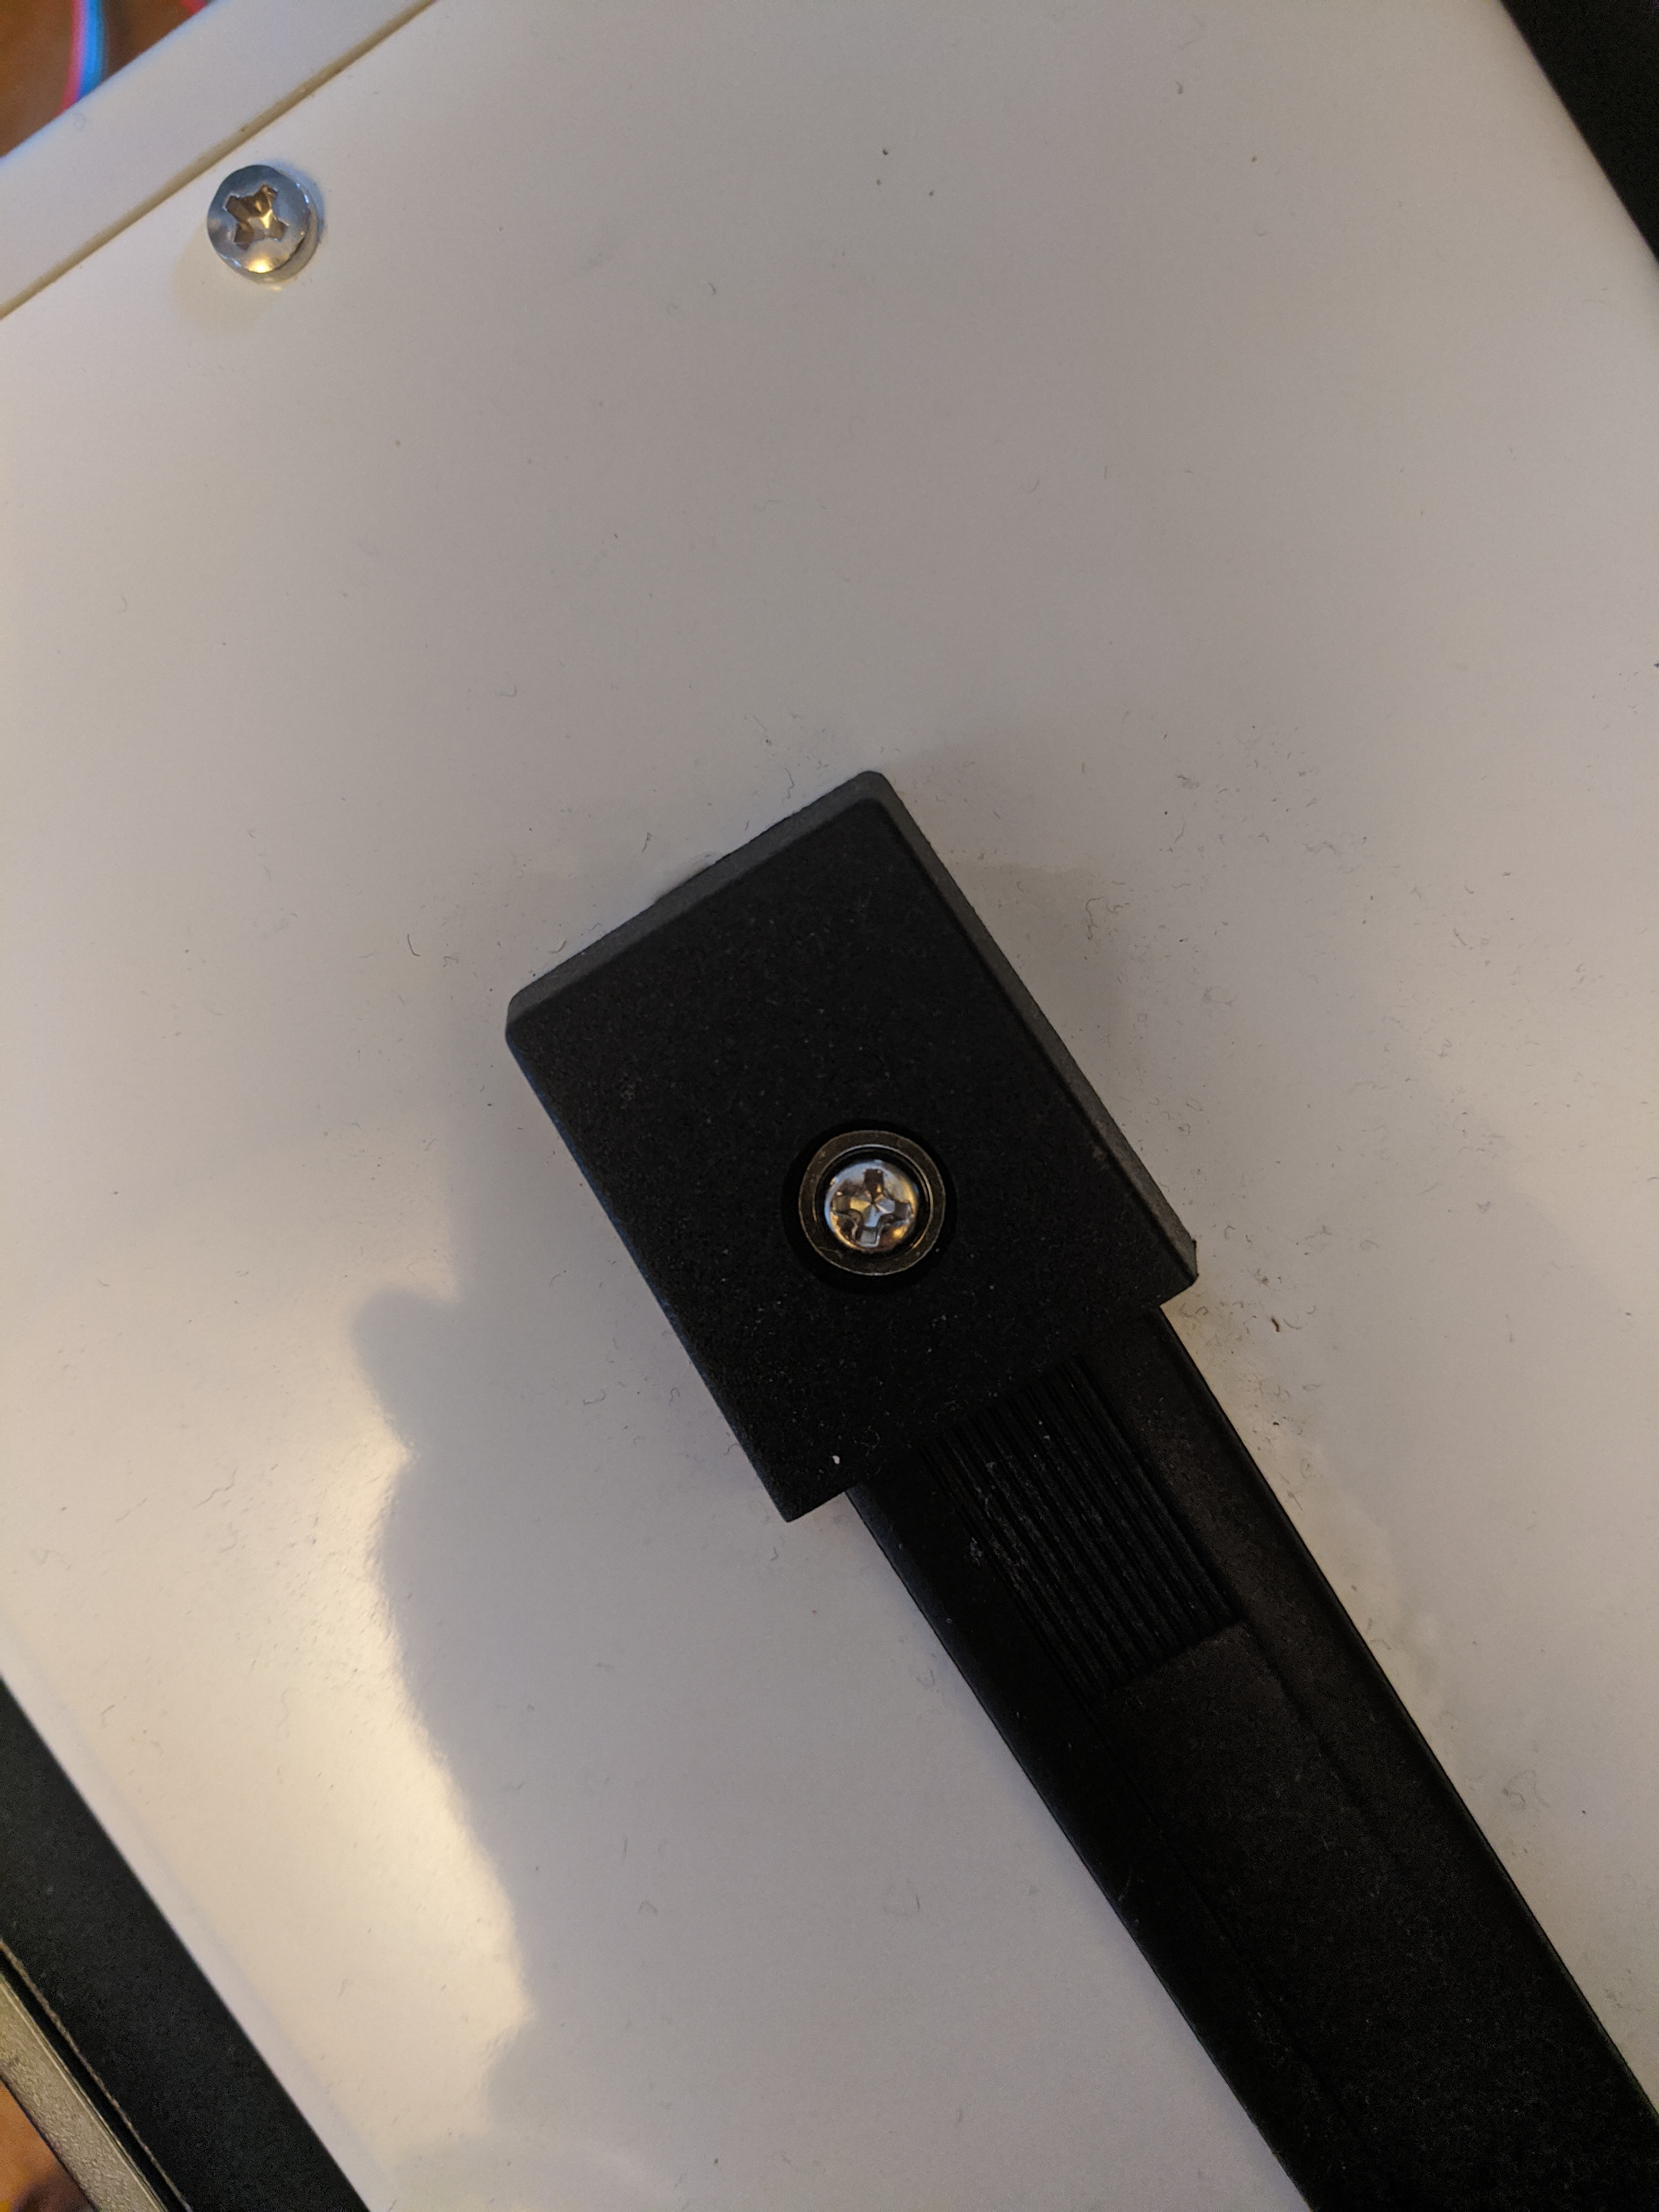cross_recessed_screw: (798, 1141, 934, 1264), (199, 160, 322, 284)
